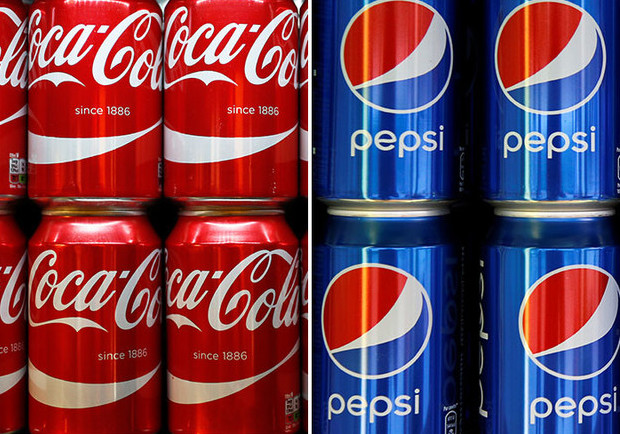pepsi: (341, 0, 451, 111), (520, 258, 619, 378), (324, 263, 428, 376), (498, 1, 604, 111), (520, 264, 619, 378), (526, 258, 619, 378)
